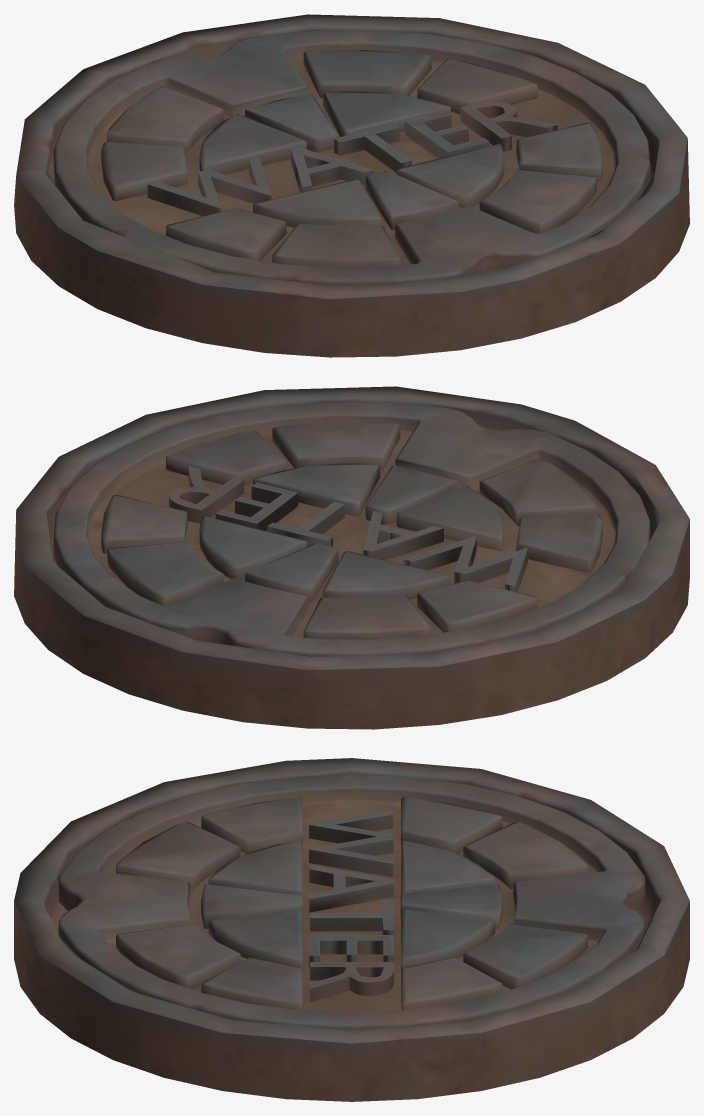
File: water_manhole_cover.glb
3 renders of one model, top to bottom at view 1: azimuth 30°, elevation 25°; view 2: azimuth 150°, elevation 25°; view 3: azimuth 270°, elevation 25°, orthographic.
Parts seen in each view (by area): view 1: water_manhole_cover, water_manhole_cover_frame; view 2: water_manhole_cover, water_manhole_cover_frame; view 3: water_manhole_cover, water_manhole_cover_frame.
Boxes of the visible parts, x1,y1,x2,y2 form: water_manhole_cover: [53, 30, 650, 285]; water_manhole_cover_frame: [14, 14, 689, 357]; water_manhole_cover: [53, 402, 650, 656]; water_manhole_cover_frame: [14, 386, 689, 729]; water_manhole_cover: [58, 774, 645, 1030]; water_manhole_cover_frame: [14, 758, 689, 1101].
Bounding box in the file's own units: 0.6908 × 0.0676 × 0.6908.
Materials: 1 (1 with a texture image).
